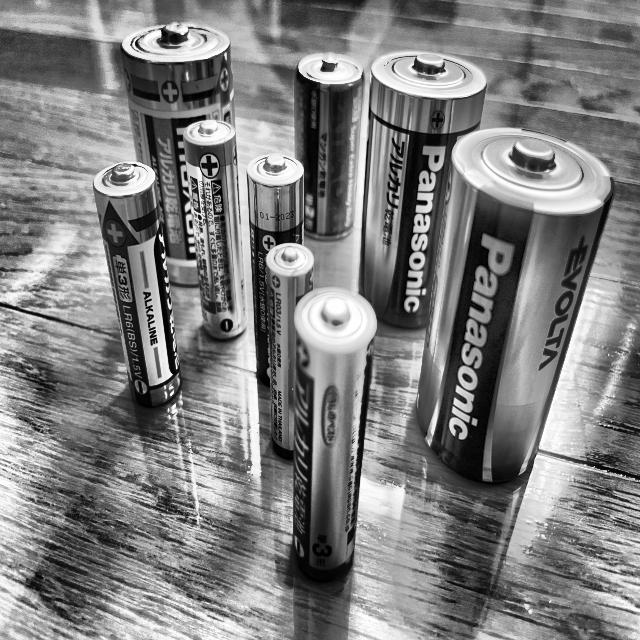drycell: (113, 18, 254, 293), (82, 157, 190, 411)
